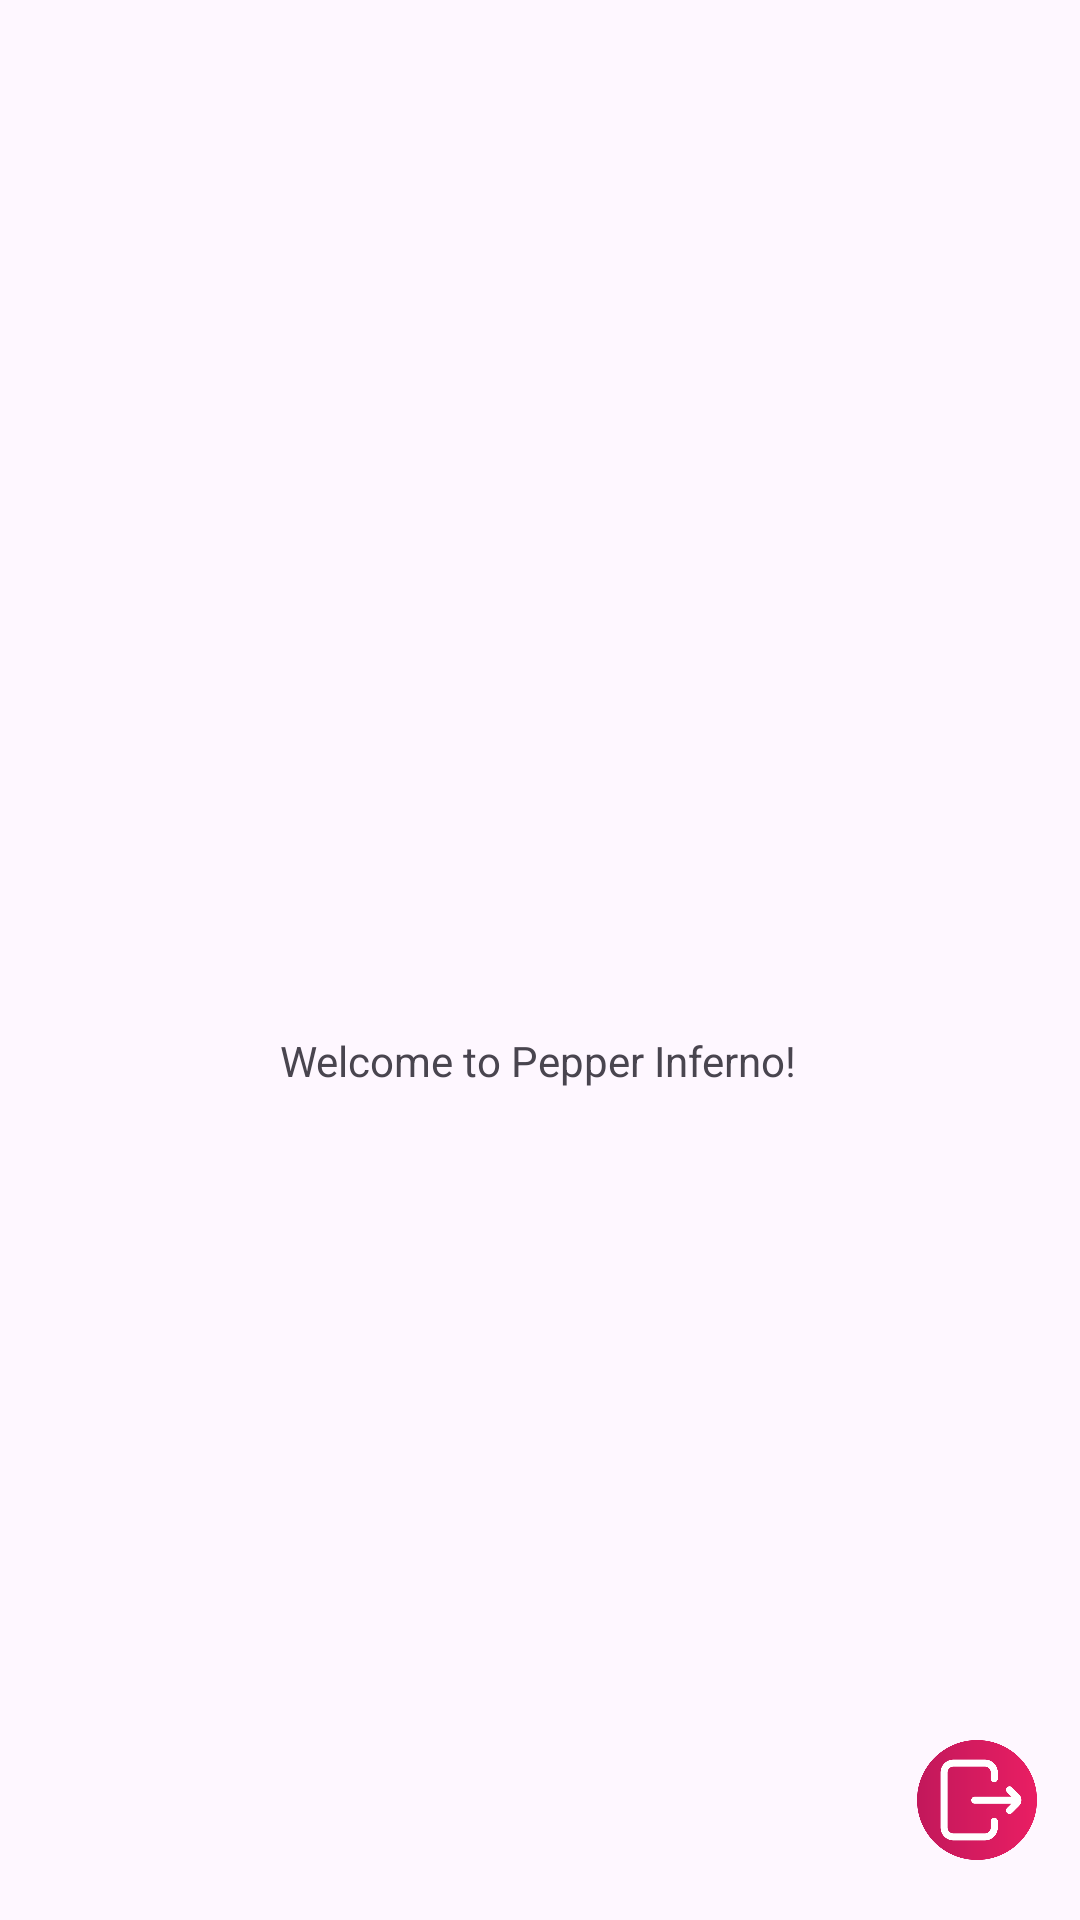

Point at icon controls on the screen. Image size 1080 x 1920, points as point (x, y).
exit: point (977, 1800)
